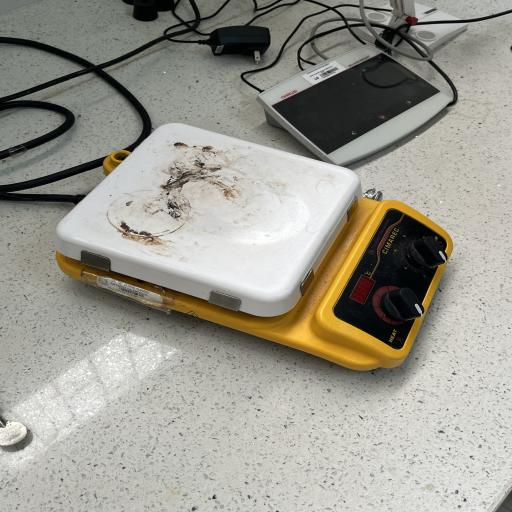Plancha_Agitacion_Cimarec: (41, 112, 461, 388)
